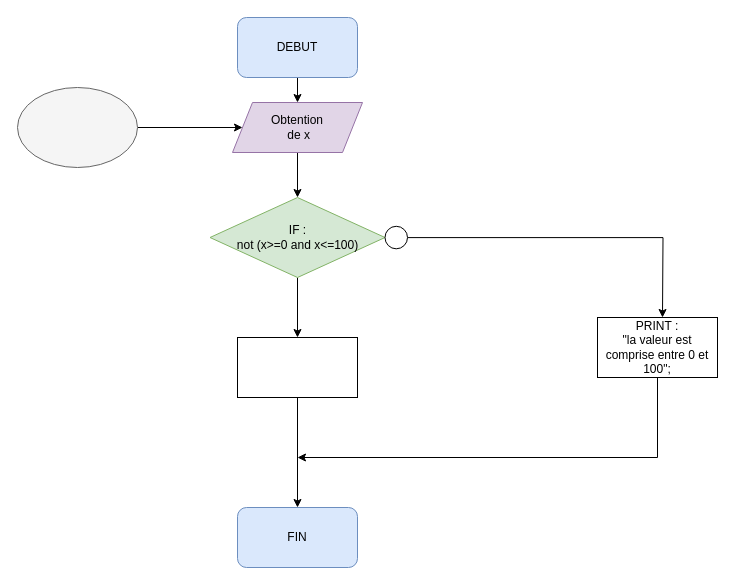
Some shapes in this 735 by 585 pixel diagram are drawn without their labels. Here are the shapes that lost their labels. From the top down, the box of each, then its label:
(16, 86, 138, 168): Manière d'obtenir
(236, 336, 358, 398): PRINT : "la valeur n'est pas comprise entre 0 et 100";
